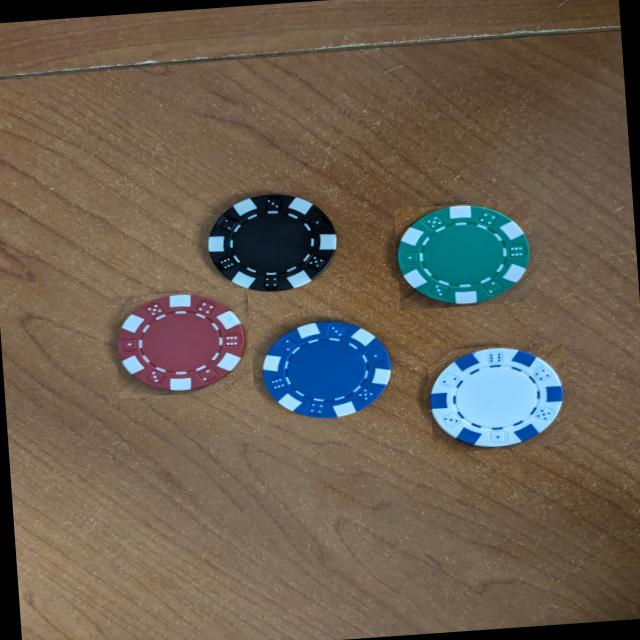black chip: (207, 191, 339, 290)
blue chip: (262, 317, 394, 417)
green chip: (397, 202, 533, 304)
red chip: (116, 290, 250, 393)
white chip: (430, 344, 568, 447)
